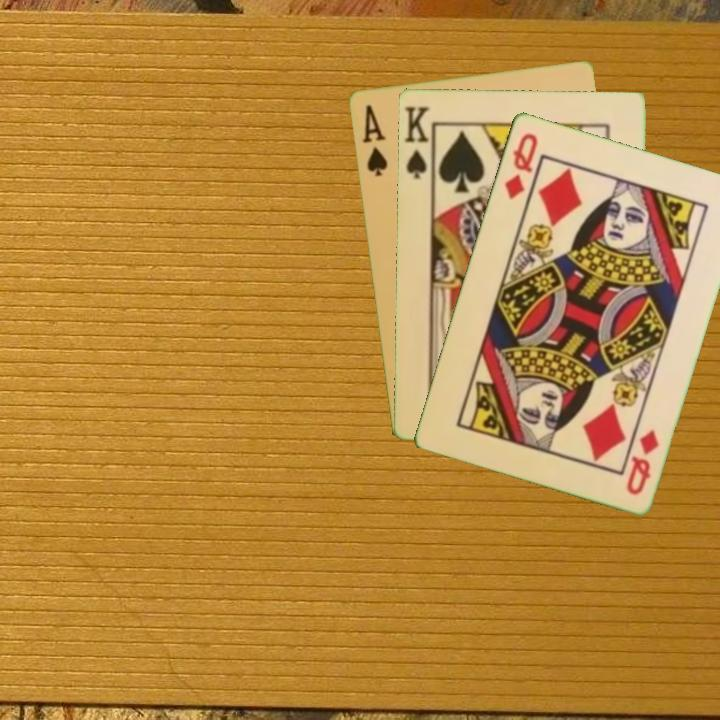As: (358, 101, 390, 179)
Ks: (401, 102, 431, 181)
Qd: (500, 129, 540, 202), (622, 425, 662, 498)
